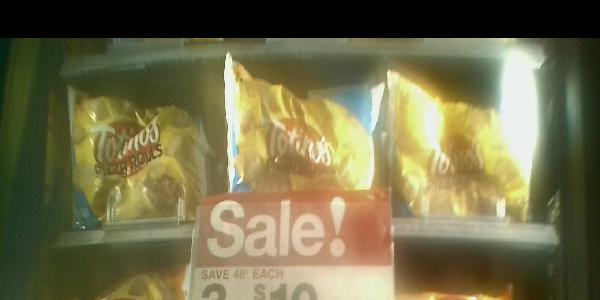icecream: (218, 54, 388, 232), (386, 59, 541, 235), (67, 78, 203, 236)
